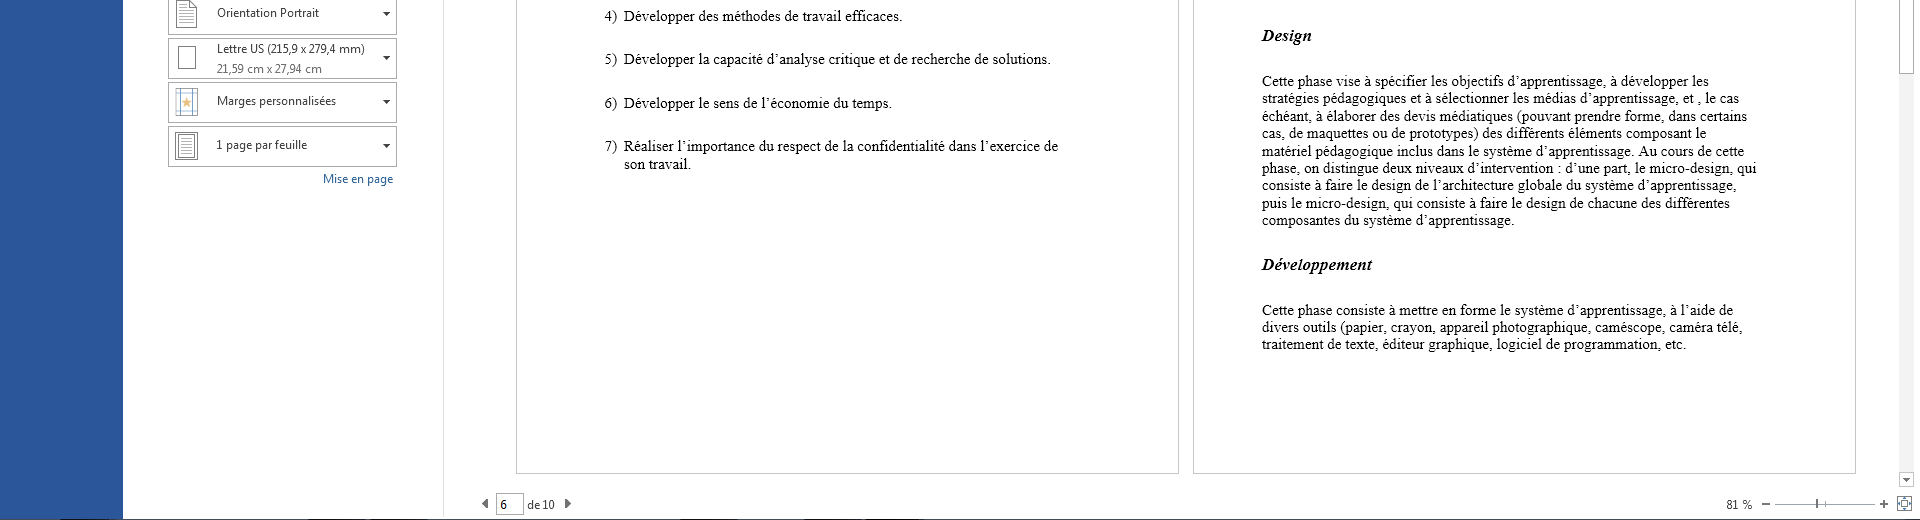texte: (1762, 496, 1911, 511), (1261, 258, 1373, 274), (1491, 321, 1591, 335), (1509, 75, 1607, 89), (1580, 92, 1678, 106), (1638, 179, 1736, 193), (1569, 303, 1667, 318), (1536, 146, 1631, 159), (1416, 214, 1511, 228), (1322, 92, 1406, 106), (1649, 162, 1733, 176), (1564, 340, 1660, 352), (678, 139, 756, 154), (1307, 197, 1389, 210), (1315, 146, 1393, 159), (624, 10, 696, 24), (624, 53, 696, 67), (624, 97, 696, 111), (1621, 75, 1689, 89), (1440, 110, 1513, 124), (858, 139, 945, 150), (1468, 162, 1554, 173), (1596, 322, 1665, 335), (260, 95, 336, 108), (1409, 127, 1478, 141), (1429, 338, 1491, 352), (1433, 179, 1513, 190), (767, 53, 825, 67), (1262, 217, 1340, 228), (1626, 128, 1692, 141), (1322, 162, 1378, 176), (1436, 92, 1509, 103), (1262, 93, 1319, 106), (1375, 75, 1427, 89), (1307, 128, 1368, 141), (762, 97, 829, 108), (1261, 31, 1311, 45), (1452, 75, 1502, 89), (1517, 110, 1571, 124), (1665, 197, 1730, 208), (1440, 321, 1488, 335), (1341, 321, 1387, 335), (714, 54, 763, 67), (1262, 110, 1311, 124), (981, 139, 1040, 150), (1518, 179, 1562, 193), (1498, 338, 1542, 352), (1573, 110, 1621, 124), (1484, 146, 1532, 159), (1586, 180, 1633, 193), (1515, 305, 1562, 318), (722, 10, 780, 21), (912, 53, 970, 64), (1507, 127, 1564, 138), (845, 10, 899, 21), (993, 53, 1047, 64), (1569, 127, 1622, 138), (1364, 215, 1412, 228), (1371, 179, 1411, 193), (829, 55, 876, 67), (1262, 162, 1300, 176), (1526, 197, 1566, 210), (1327, 110, 1376, 121), (624, 139, 673, 150), (1262, 146, 1311, 157), (1588, 197, 1637, 208), (1625, 110, 1664, 124), (778, 142, 820, 154), (1262, 340, 1324, 349), (1298, 75, 1332, 89), (1298, 303, 1332, 318), (218, 9, 276, 17), (1533, 92, 1576, 103), (1382, 338, 1425, 349), (218, 95, 256, 108), (649, 158, 691, 169), (852, 99, 888, 111), (802, 10, 841, 21), (1391, 325, 1435, 335), (1262, 181, 1311, 190), (1336, 306, 1385, 314), (1670, 322, 1713, 332), (528, 499, 571, 509), (256, 131, 269, 162), (1700, 113, 1747, 121), (1417, 199, 1464, 208), (1460, 303, 1496, 314), (1262, 321, 1299, 332), (1397, 146, 1433, 157), (301, 44, 336, 55), (1566, 162, 1600, 173), (1681, 303, 1716, 314), (1400, 305, 1438, 314), (1303, 321, 1336, 332), (1344, 340, 1378, 351), (1404, 110, 1436, 121), (1717, 321, 1742, 334), (280, 9, 320, 17), (268, 44, 298, 55), (1382, 162, 1412, 173), (1604, 164, 1630, 176), (1262, 76, 1294, 86), (276, 139, 307, 149), (1262, 305, 1294, 314), (1325, 179, 1353, 190), (1416, 166, 1464, 173), (1669, 110, 1696, 121), (949, 139, 976, 150), (1438, 146, 1464, 157), (1480, 197, 1507, 208), (563, 489, 573, 519), (1716, 147, 1744, 157), (340, 44, 364, 55), (218, 44, 247, 53), (217, 64, 242, 73), (276, 64, 301, 73), (1880, 488, 1888, 518), (1660, 149, 1693, 157), (1262, 201, 1287, 210), (482, 499, 507, 509), (227, 143, 252, 152), (1727, 500, 1752, 509), (1380, 110, 1400, 121), (1483, 127, 1502, 138), (1641, 197, 1660, 208), (324, 174, 347, 184), (369, 177, 393, 186), (699, 10, 718, 21), (1638, 146, 1657, 157), (1393, 201, 1413, 210), (1692, 75, 1709, 86), (1262, 131, 1284, 139), (605, 10, 617, 24), (605, 53, 617, 67), (605, 97, 617, 111), (605, 139, 617, 154), (1738, 166, 1756, 176), (1431, 75, 1447, 86), (1513, 92, 1529, 103), (894, 53, 909, 64), (834, 97, 849, 108), (759, 139, 774, 150), (1566, 179, 1581, 190), (1344, 214, 1359, 225), (714, 102, 740, 108), (624, 162, 645, 169), (1336, 80, 1360, 86), (785, 10, 798, 21), (975, 53, 988, 64), (743, 97, 757, 108), (1289, 127, 1303, 138), (1044, 139, 1058, 150), (1698, 146, 1712, 157), (1416, 179, 1429, 190), (1570, 197, 1583, 208), (1719, 303, 1733, 314), (1547, 338, 1560, 349), (1665, 340, 1682, 349), (1720, 95, 1739, 103), (1392, 127, 1404, 138), (825, 139, 838, 150), (1329, 338, 1341, 349), (699, 53, 710, 64), (1704, 92, 1716, 103), (842, 139, 853, 150), (1291, 197, 1302, 208), (1500, 303, 1511, 314), (1373, 131, 1389, 138), (251, 44, 264, 53), (699, 97, 709, 108), (1696, 127, 1706, 138), (1469, 146, 1479, 157), (1635, 162, 1644, 173), (1357, 179, 1367, 190), (1512, 197, 1522, 208), (879, 55, 890, 64), (1682, 94, 1693, 103), (249, 67, 263, 73), (306, 67, 321, 73), (1304, 166, 1319, 173), (1411, 94, 1420, 103), (1442, 308, 1456, 314), (182, 98, 191, 106), (1315, 180, 1322, 190), (351, 177, 362, 184), (1365, 76, 1371, 86), (1611, 76, 1618, 86), (1469, 198, 1476, 208), (1389, 305, 1395, 314), (217, 139, 222, 149), (1318, 111, 1321, 121), (267, 67, 272, 73), (1427, 93, 1429, 103), (1671, 305, 1674, 314), (383, 12, 389, 16), (383, 100, 389, 104), (383, 144, 389, 148), (1558, 166, 1561, 173), (1698, 102, 1701, 105)
